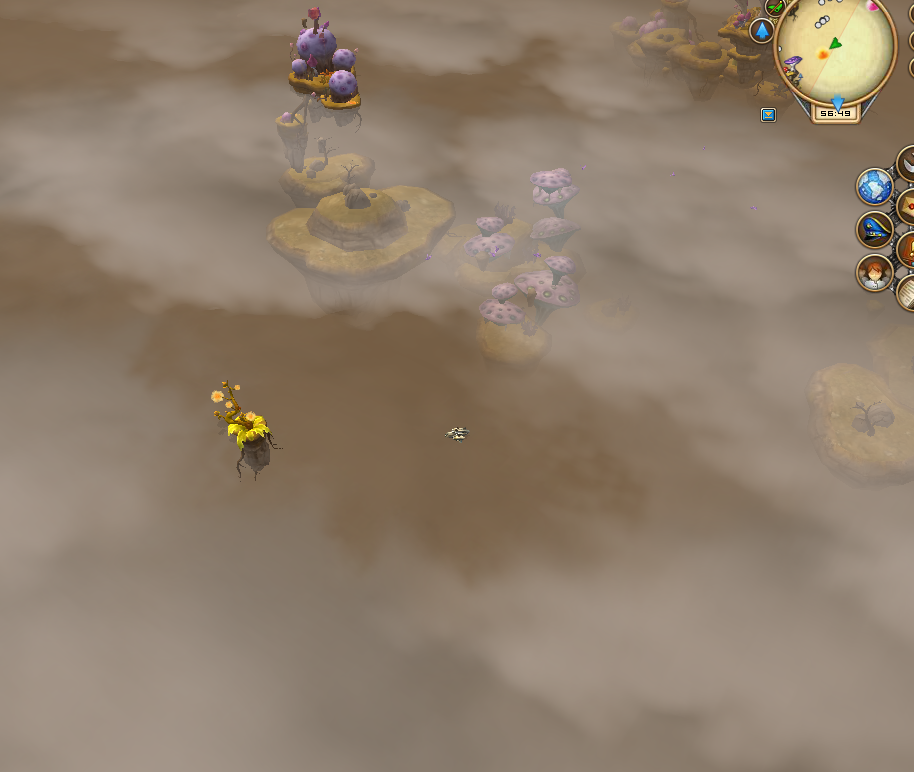dandelion-full: (207, 372, 286, 478)
